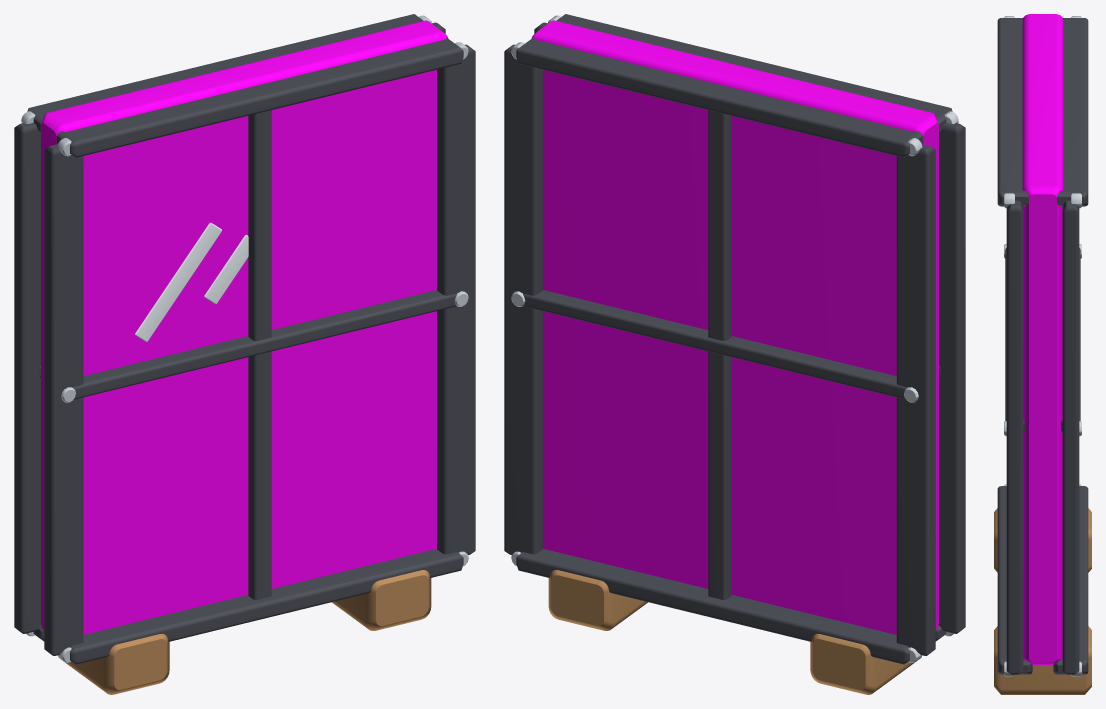
File: objet_vitre_blindee.glb
3 views of the same model, side by side, from view 1: azimuth 30°, elevation 25°; view 2: azimuth 150°, elevation 25°; view 3: azimuth 270°, elevation 25° (orthographic). The views are drawn at different scales.
Visible parts, largest first — view 1: vitre_teinte.004, vitre_trame.002, vitre_bois_cale.004, vitre_reflet.004, vitre_boulon.002; view 2: vitre_teinte.004, vitre_trame.002, vitre_bois_cale.004, vitre_boulon.002; view 3: vitre_trame.002, vitre_teinte.004, vitre_bois_cale.004, vitre_boulon.002.
Boxes of the visible parts, x1=… form: vitre_teinte.004: x1=41, y1=20, x2=448, y2=634; vitre_trame.002: x1=14, y1=14, x2=475, y2=664; vitre_bois_cale.004: x1=66, y1=570, x2=431, y2=694; vitre_reflet.004: x1=135, y1=222, x2=248, y2=341; vitre_boulon.002: x1=21, y1=15, x2=468, y2=662; vitre_teinte.004: x1=531, y1=20, x2=938, y2=634; vitre_trame.002: x1=504, y1=14, x2=965, y2=664; vitre_bois_cale.004: x1=548, y1=570, x2=913, y2=694; vitre_boulon.002: x1=511, y1=15, x2=958, y2=662; vitre_trame.002: x1=997, y1=18, x2=1088, y2=674; vitre_teinte.004: x1=1022, y1=14, x2=1063, y2=665; vitre_bois_cale.004: x1=994, y1=508, x2=1091, y2=694; vitre_boulon.002: x1=1004, y1=16, x2=1081, y2=676.
Bounding box in the file's own units: 0.325 × 0.415 × 0.07.
